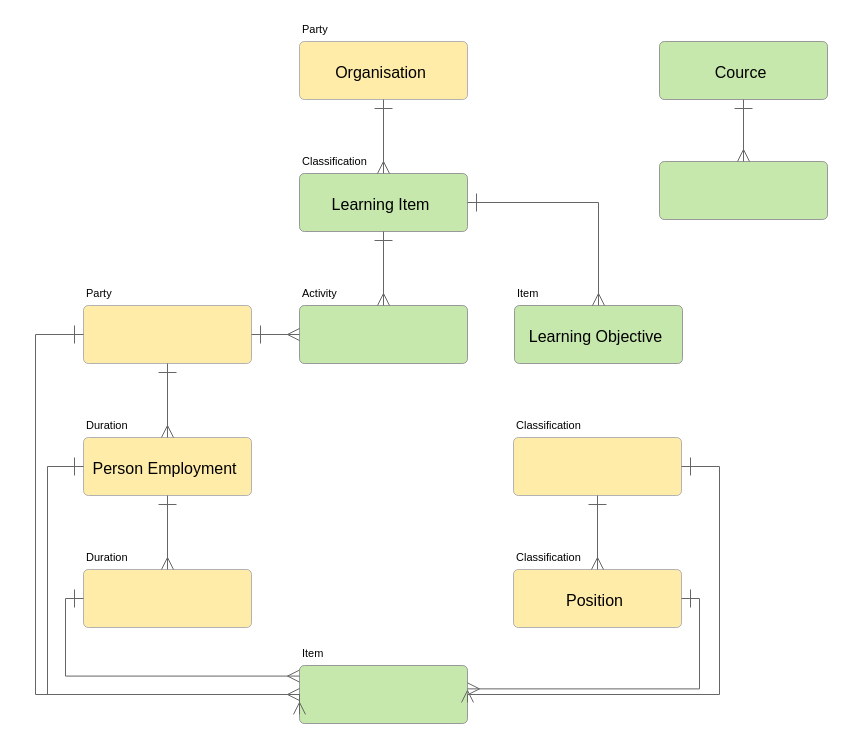
This 845x751 diagram has some shape labels left out. The box of each missing label's shape, as (x1, y1, x2, y2) in pixels:
Enrolement: (658, 160, 828, 220)
Job: (512, 436, 682, 496)
Learning Occurrence: (298, 304, 468, 364)
Learning Requirement: (298, 664, 468, 724)
Person: (82, 304, 252, 364)
Position Occupancy: (82, 568, 252, 628)
